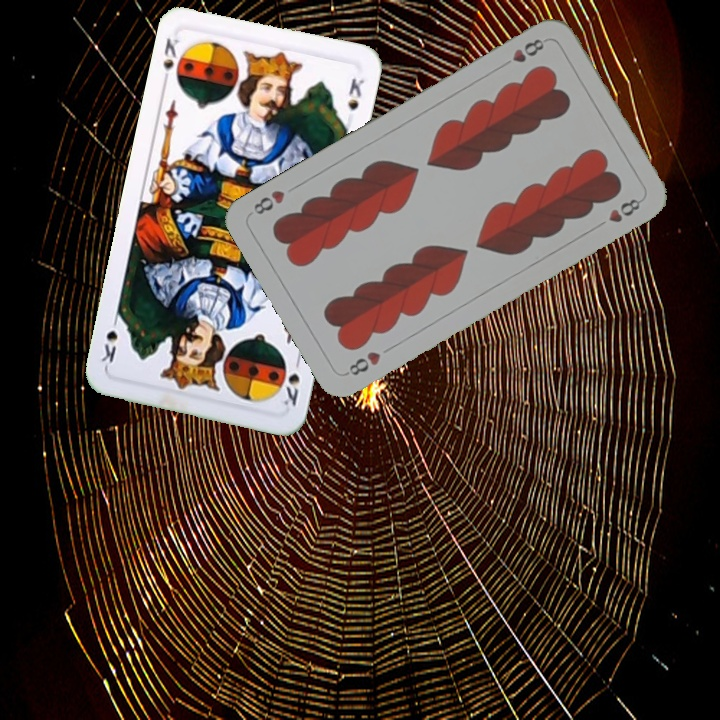H8: (341, 347, 383, 379), (508, 34, 547, 66)
SK: (279, 352, 303, 409), (158, 34, 182, 88)
